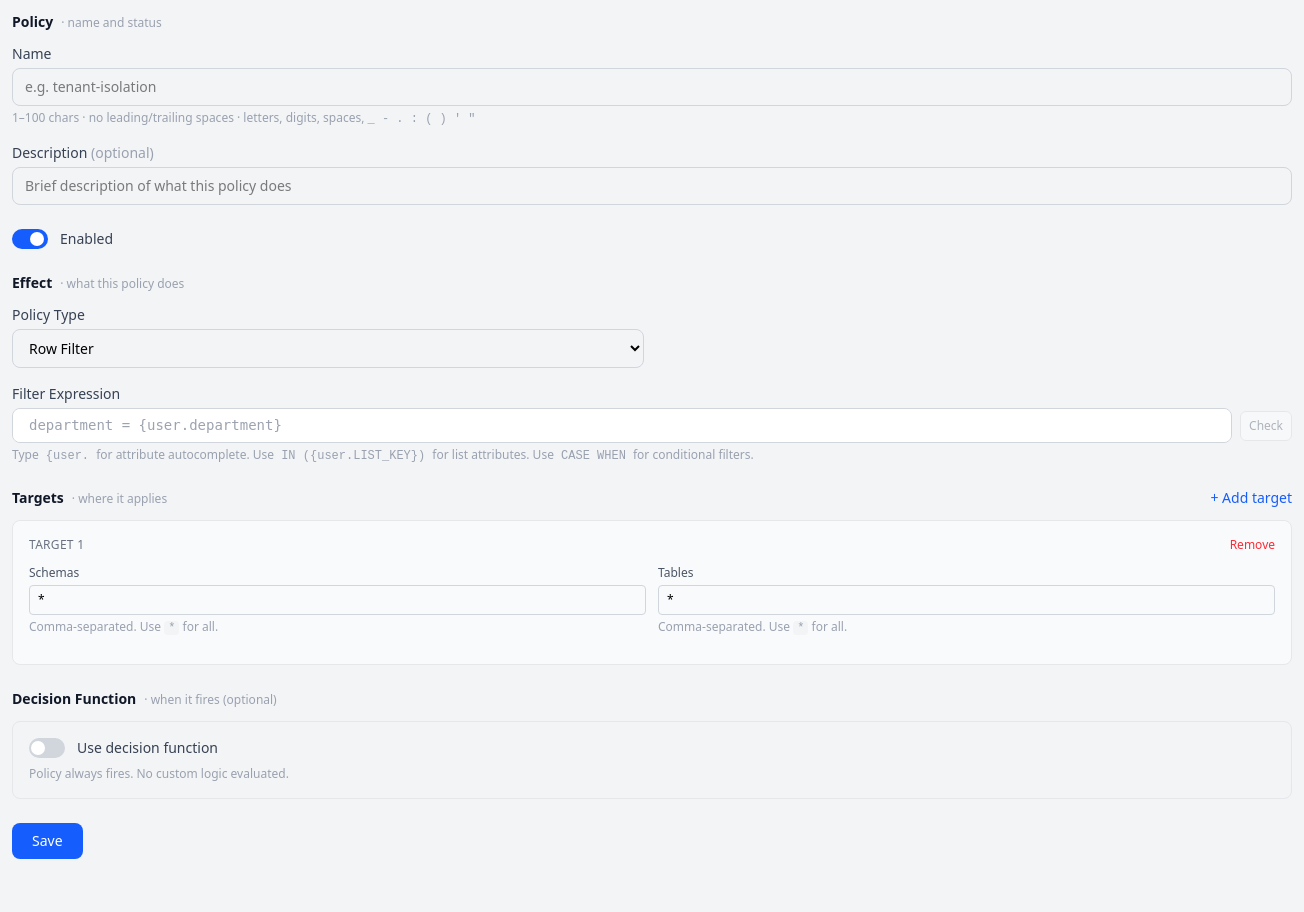
Test: PolicyForm — policy type selector › hides definition fields when table_deny is selected
Select "Table Deny" in the dropdown at (328, 348), box [12,329,644,368]
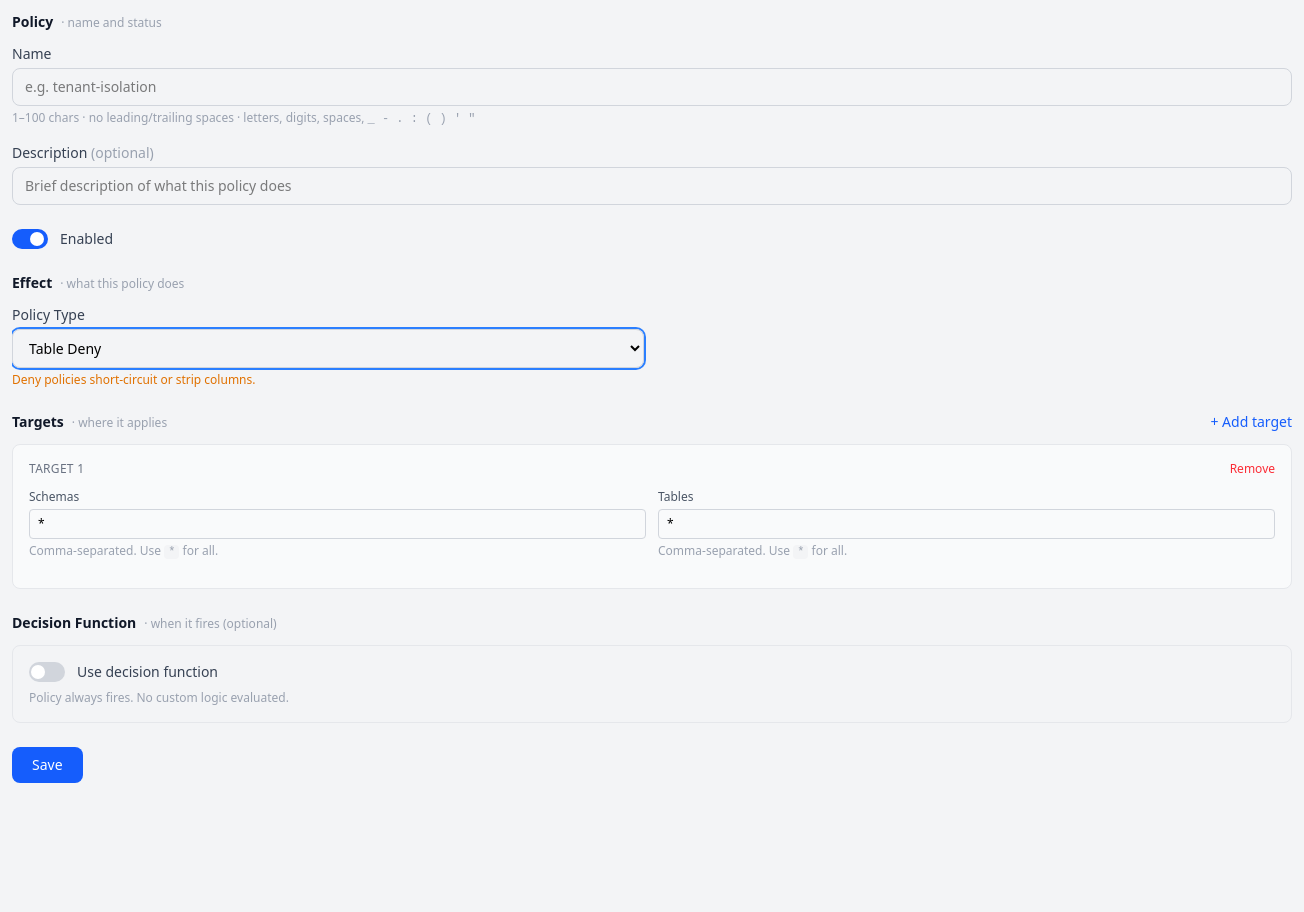
Result: the text "Filter Expression" is gone
